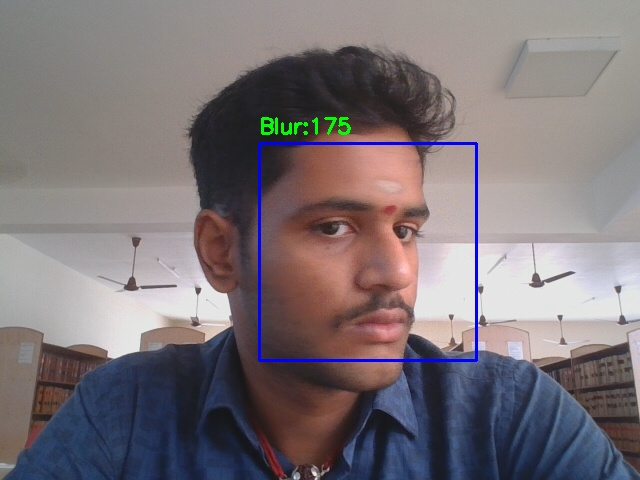real: (259, 143, 476, 360)
